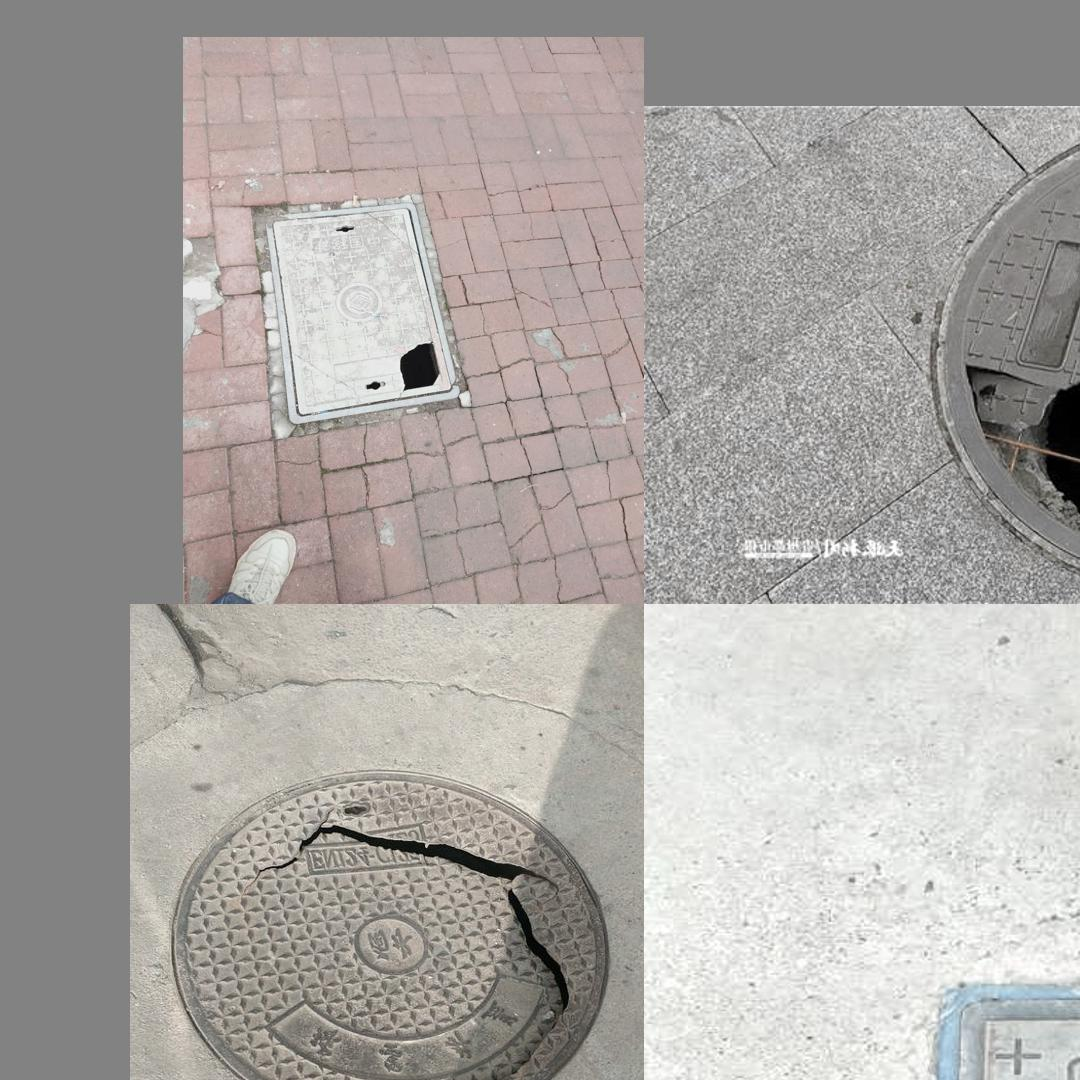broke: (136, 714, 629, 1080), (919, 114, 1080, 588), (263, 202, 460, 424), (913, 974, 1080, 1080)
